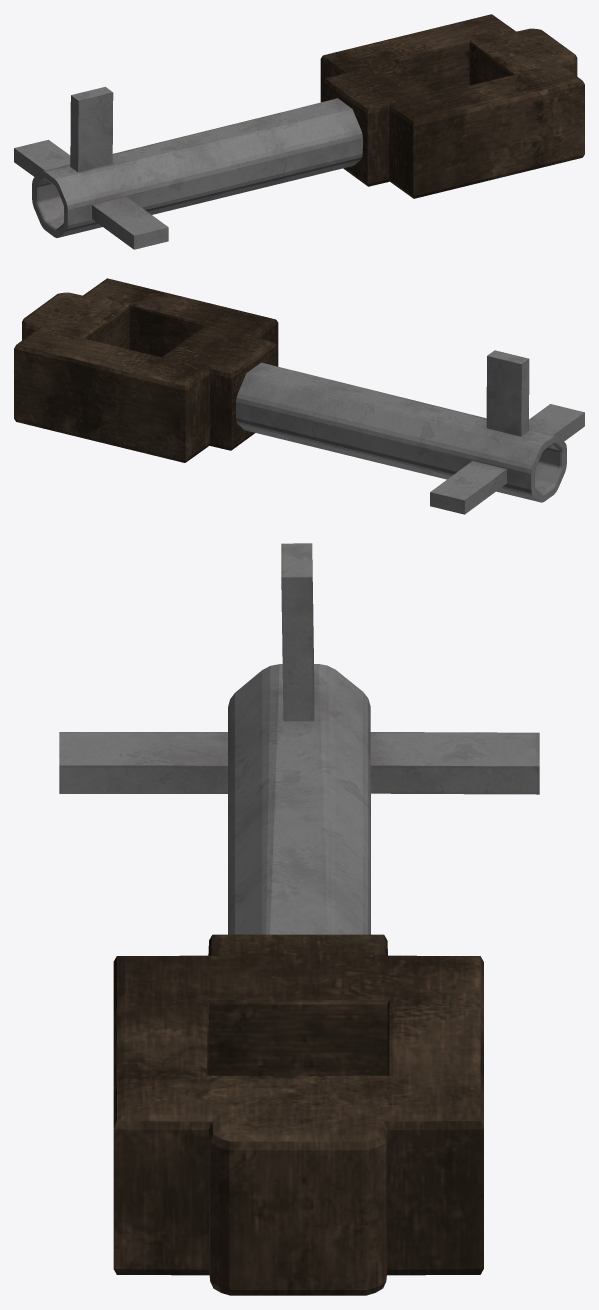
The model's file is Chave_1.fbx.
3 views of the same model, one above another, from view 1: azimuth 30°, elevation 25°; view 2: azimuth 150°, elevation 25°; view 3: azimuth 270°, elevation 25° (orthographic). The views are drawn at different scales.
Visible parts, largest first — view 1: Chave_1; view 2: Chave_1; view 3: Chave_1.
Part boxes in pixels (<box>): Chave_1: <box>14,14,584,249</box>; Chave_1: <box>14,278,584,514</box>; Chave_1: <box>59,543,539,1295</box>.
Size of the model in its own units: 7.14 by 1.89 by 2.92.
